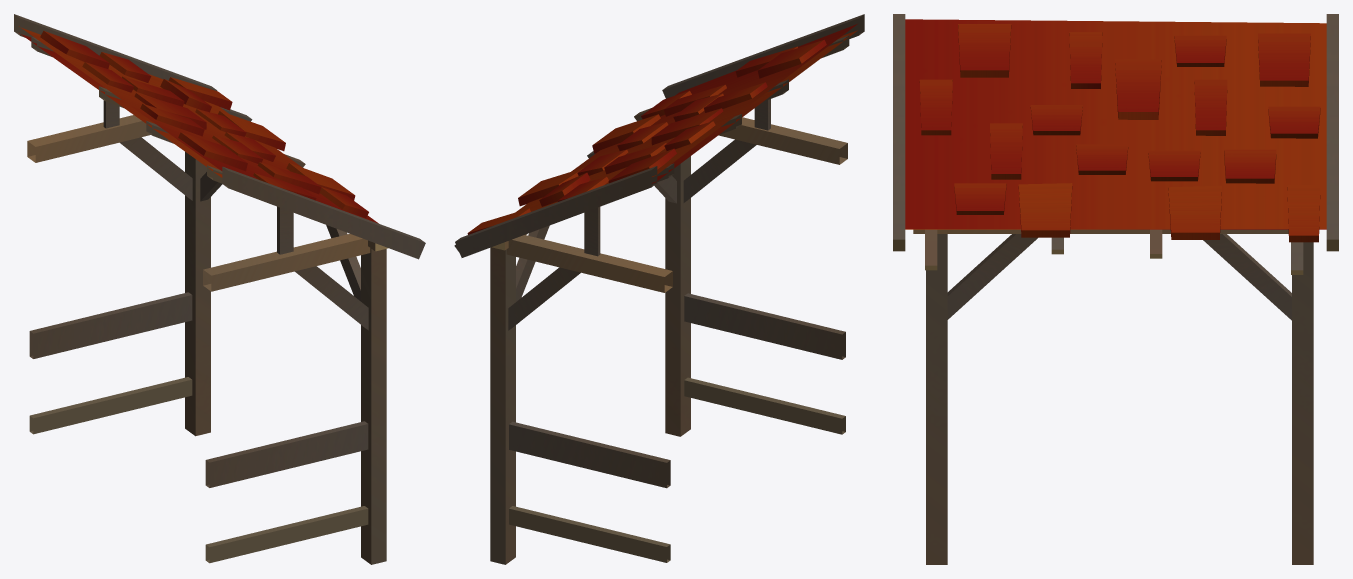
The model's file is Shed_3.fbx.
3 views of the same model, side by side, from view 1: azimuth 30°, elevation 25°; view 2: azimuth 150°, elevation 25°; view 3: azimuth 270°, elevation 25° (orthographic). The views are drawn at different scales.
Parts seen in each view (by area): view 1: polySurface9858; view 2: polySurface9858; view 3: polySurface9858.
Part boxes in pixels (<box>): polySurface9858: <box>14,14,425,564</box>; polySurface9858: <box>454,14,864,564</box>; polySurface9858: <box>893,14,1338,564</box>.
Bounding box in the file's own units: 239 × 471 × 411.
